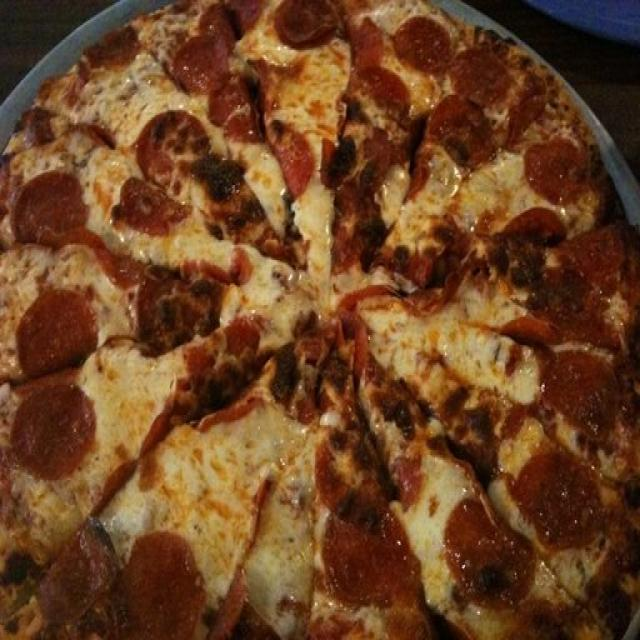Pepperoni: (323, 492, 418, 604), (444, 502, 532, 598), (40, 521, 117, 623), (130, 525, 198, 640), (526, 451, 597, 544), (550, 342, 618, 432), (136, 103, 208, 184), (20, 388, 89, 467), (19, 293, 92, 365), (18, 172, 87, 243), (436, 94, 491, 170), (125, 181, 193, 238), (560, 231, 634, 282), (524, 141, 589, 199), (397, 13, 454, 78), (454, 48, 516, 102), (496, 309, 565, 353), (361, 63, 412, 120), (504, 204, 565, 247), (282, 0, 332, 50), (280, 123, 313, 196), (179, 38, 232, 78), (220, 84, 254, 139), (365, 131, 394, 188), (356, 17, 380, 65)
Pizza: (3, 0, 637, 640)
